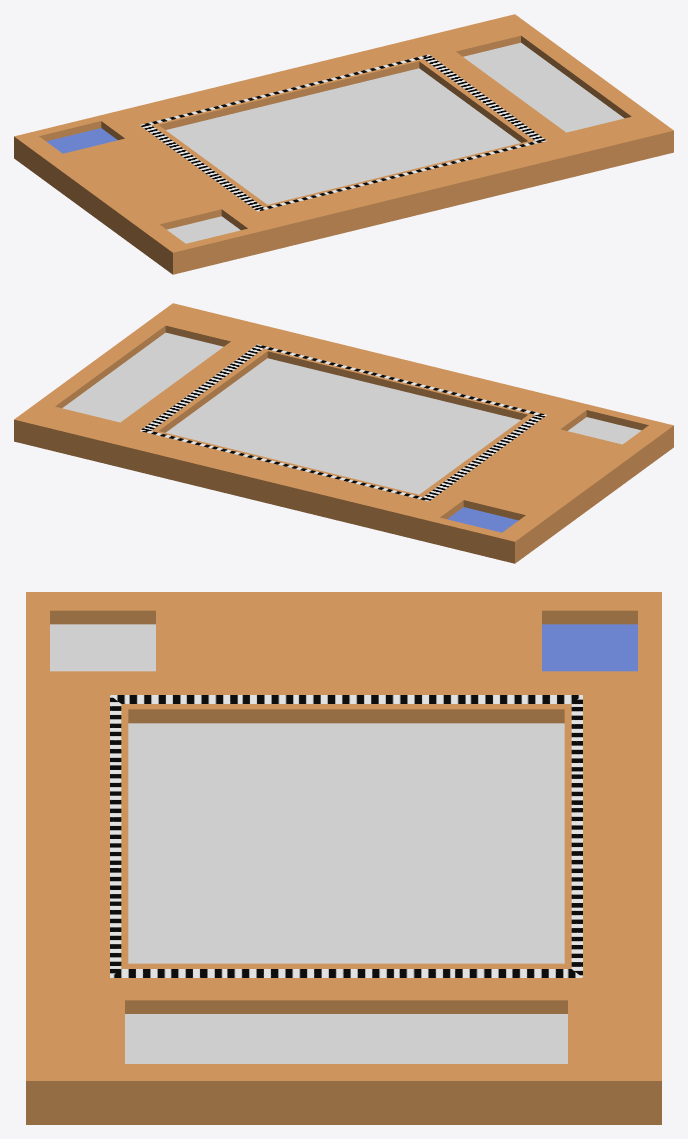
Rendered from TestCardFinal.fbx.
3 renders of one model, top to bottom at view 1: azimuth 30°, elevation 25°; view 2: azimuth 150°, elevation 25°; view 3: azimuth 270°, elevation 25°, orthographic. The views are drawn at different scales.
Visible parts, largest first — view 1: Cube; view 2: Cube; view 3: Cube.
Part boxes in pixels (bbox=[...]): Cube: bbox=[14, 14, 673, 274]; Cube: bbox=[14, 303, 673, 563]; Cube: bbox=[26, 592, 661, 1124].
Bounding box in the file's own units: 568 × 23.85 × 312.
